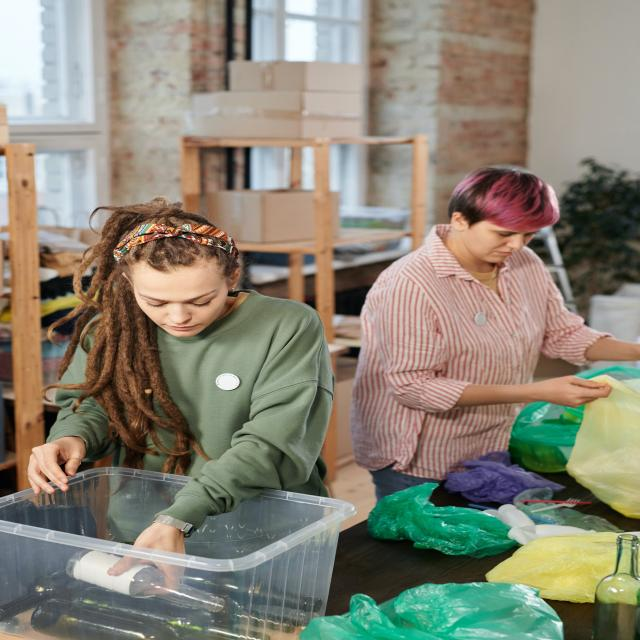glass: (61, 560, 205, 630)
